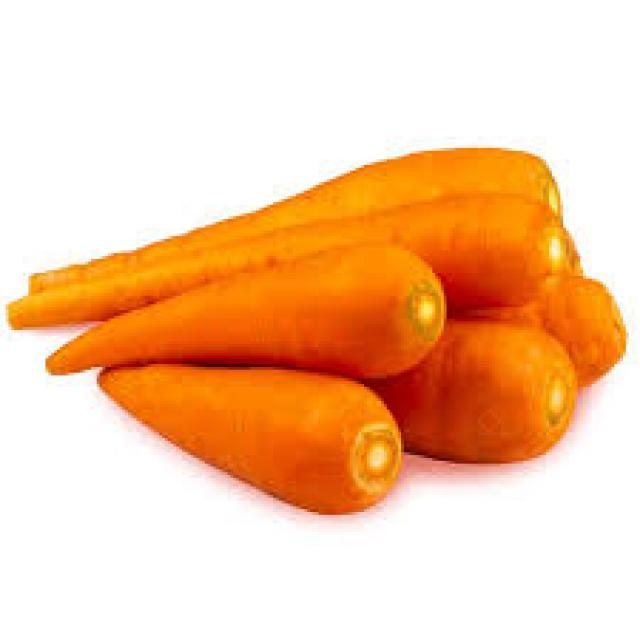carrot: (9, 198, 566, 332), (43, 242, 446, 387), (80, 359, 407, 518)
